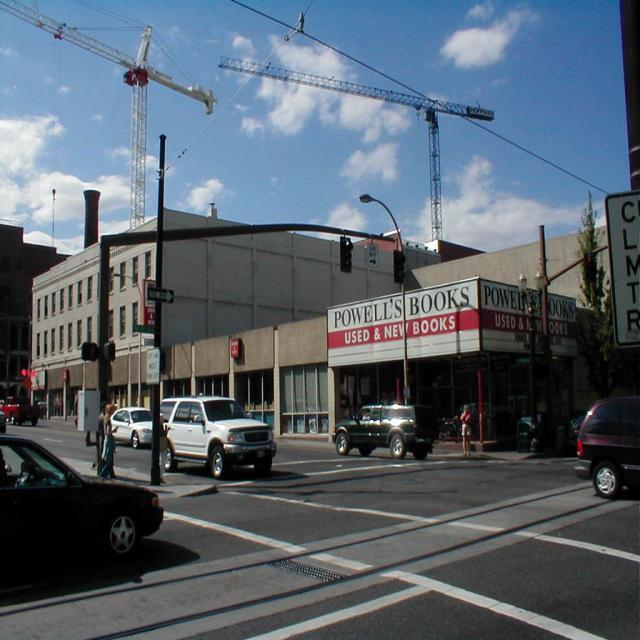off traffic light: (394, 250, 406, 281)
traffic light: (341, 238, 353, 271)
